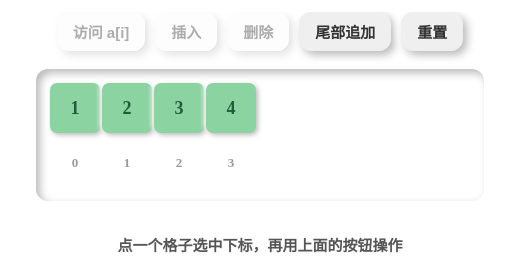
ArrayViz › TC-VIZ-ARRAYVIZ-04 remove 减元素
What coordinates should you click on to do the following:
click the button with class "cell" showing "2"
I would click on:
 (127, 108)
Its box is [102,83,152,133].
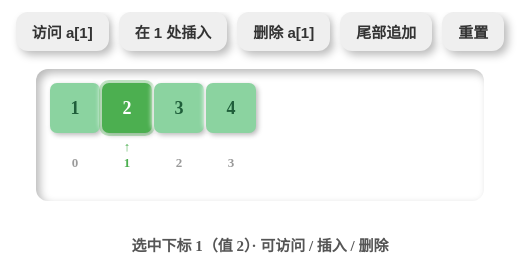
What coordinates should you click on to do the following:
click the button "删除 a[1]"
I would click on:
 (284, 32)
Its box is [237,12,330,51].
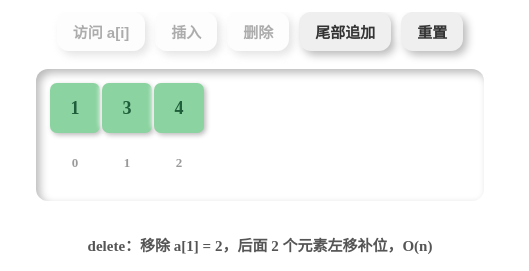
Result: the number of buttons with class "cell" is 3 at [50,83,100,133]; [102,83,152,133]; [154,83,204,133]
Result: the elements with class "cell" read "1", "3", "4", in this order at [50,83,100,133]; [102,83,152,133]; [154,83,204,133]
